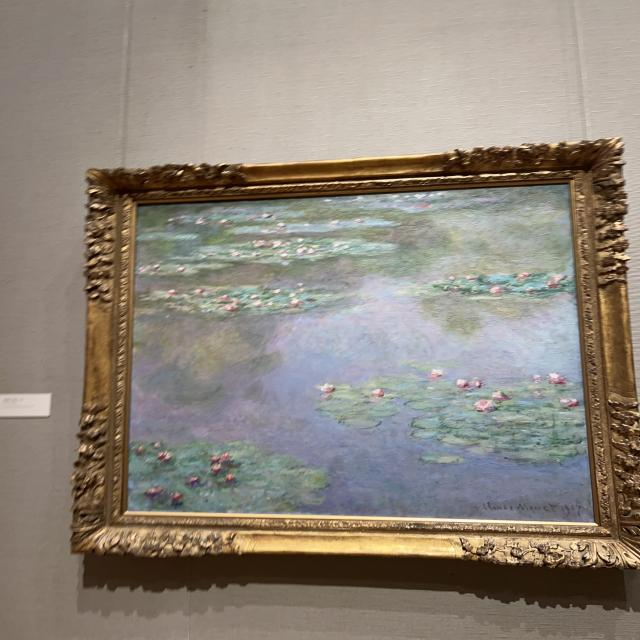lilies: (123, 187, 590, 522)
